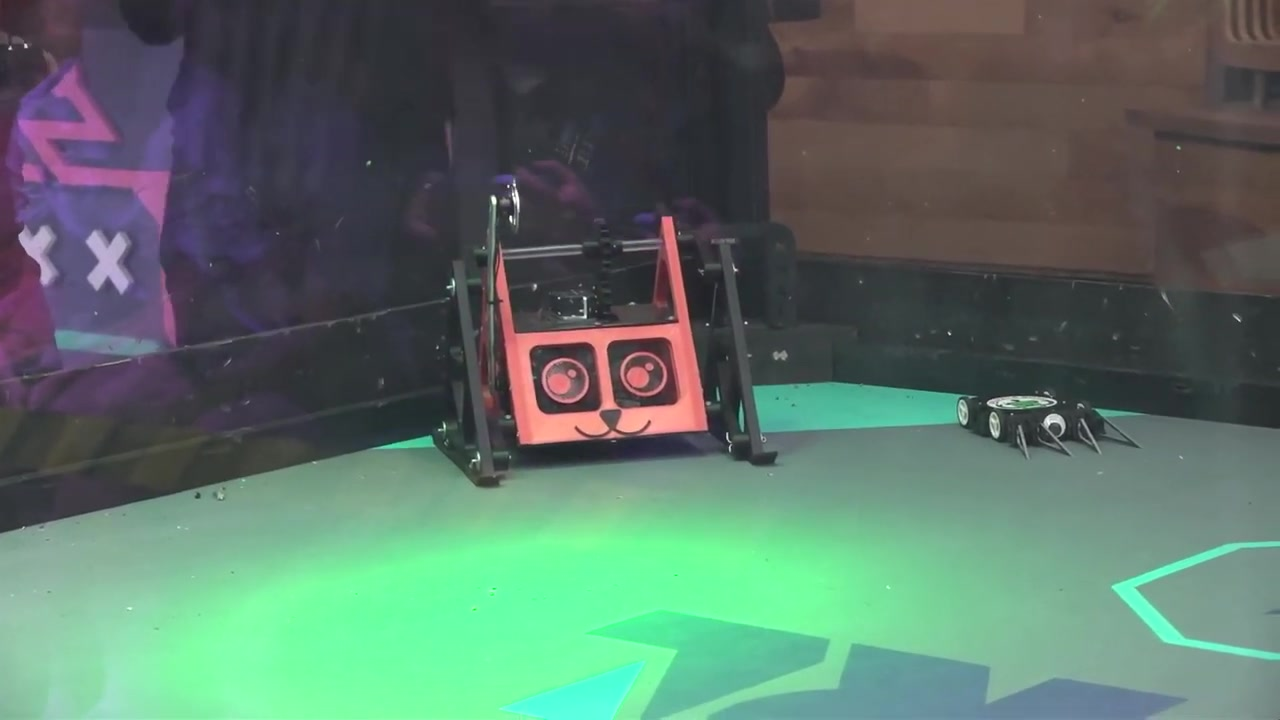combatbot: (425, 174, 779, 490)
minibot: (957, 389, 1142, 462)
